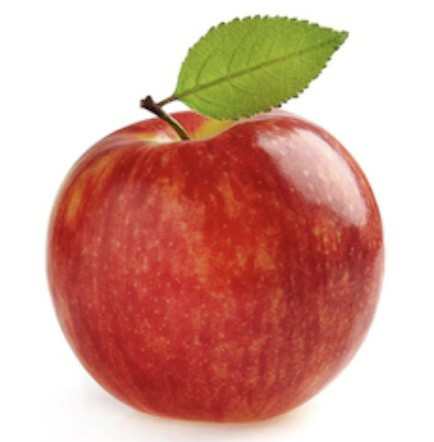fresh_apple: (49, 105, 387, 421)
